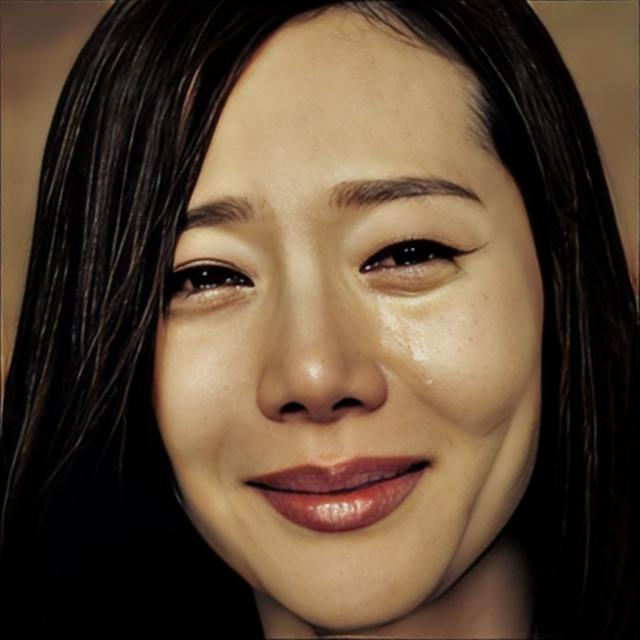happy: (131, 65, 546, 622)
